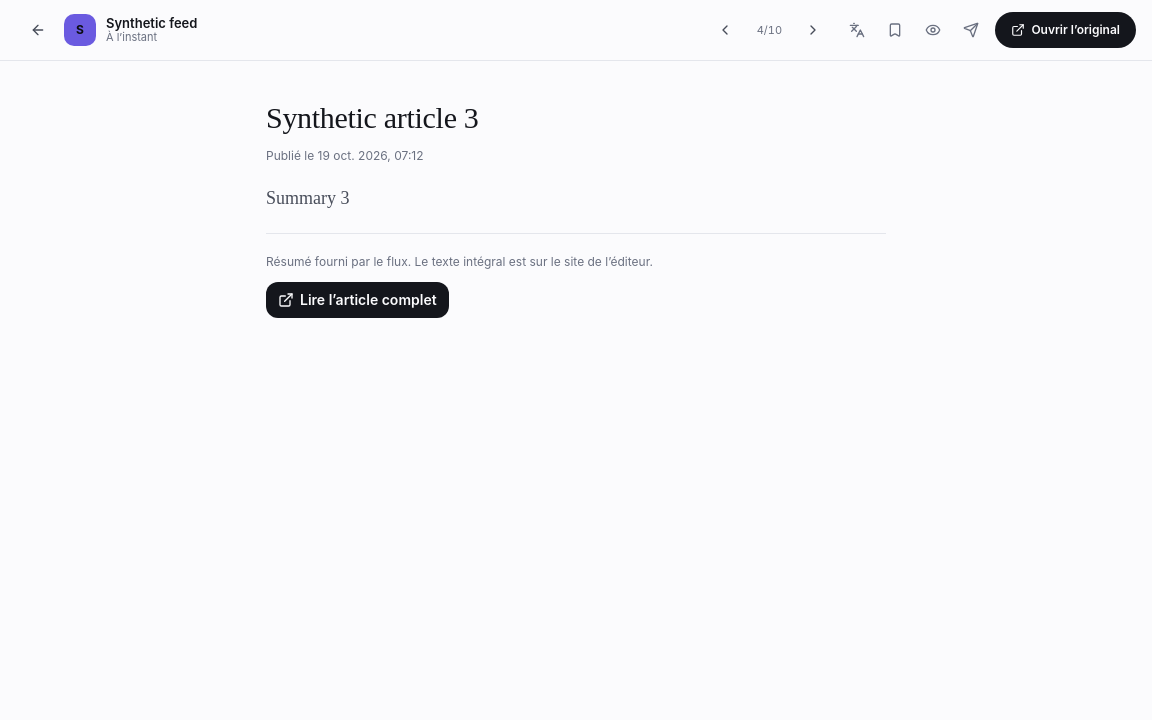
Scenario: RssReadingPane sharing › says so when nothing could be copied
The image size is (1152, 720).
Click the button named "Partager l’article": [971, 30] box [953,12,989,48]
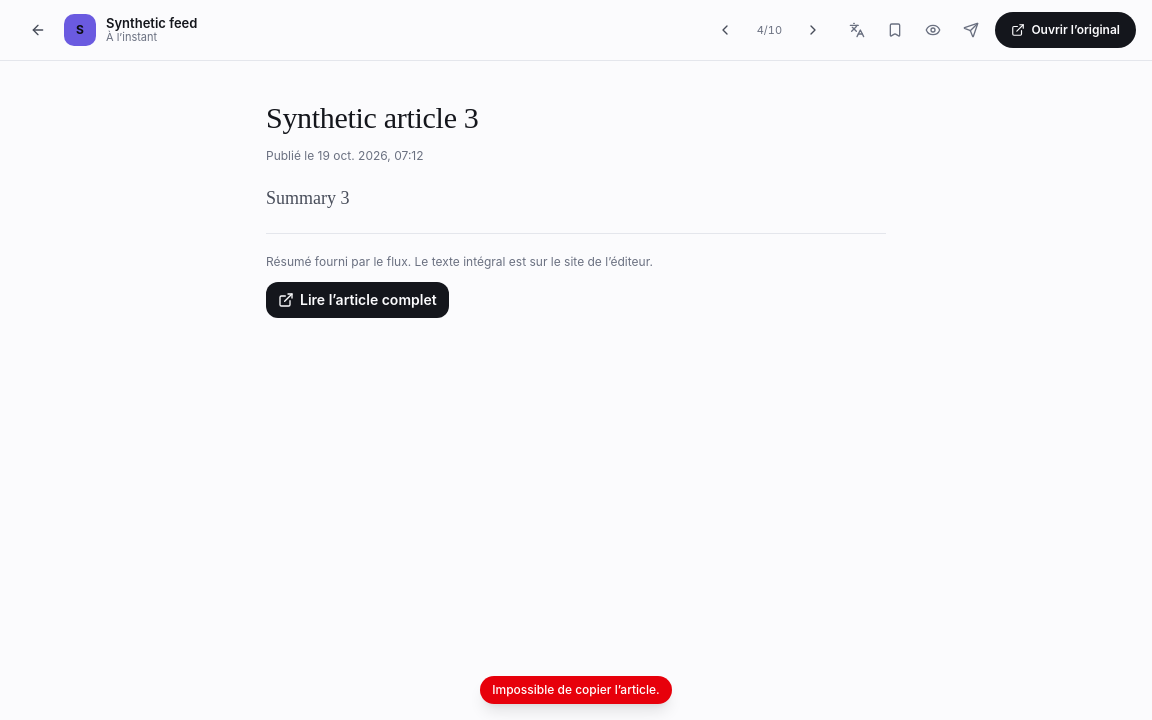
Expected: the text "Impossible de copier l’article." is shown, [480,676,672,704]
